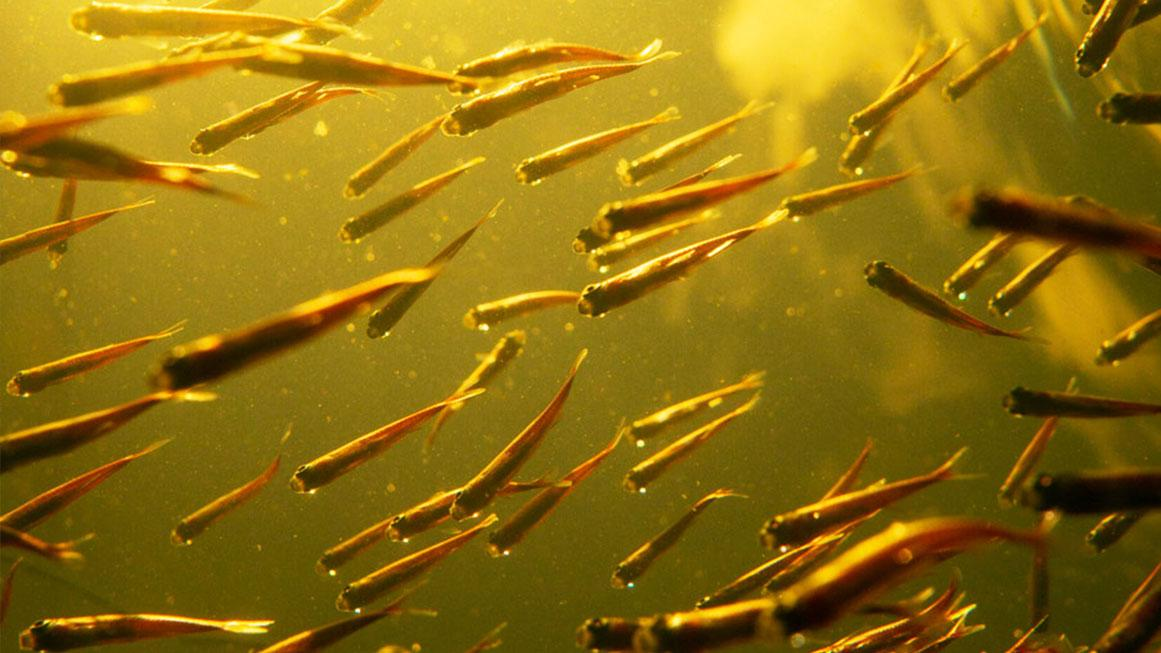fish: (435, 331, 606, 530), (440, 45, 696, 154), (362, 190, 521, 356), (190, 52, 373, 166), (158, 421, 300, 562), (331, 149, 497, 266), (434, 34, 676, 99), (342, 104, 472, 208), (178, 118, 244, 169), (445, 472, 502, 530), (158, 509, 217, 561), (325, 206, 379, 259), (365, 309, 418, 351)
